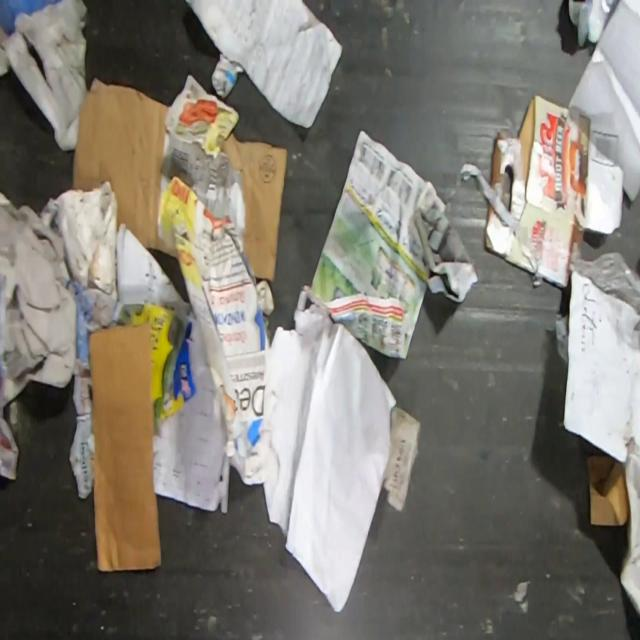cardboard: (69, 77, 288, 285), (490, 92, 626, 294), (86, 317, 162, 573), (484, 201, 535, 276), (587, 442, 630, 525)
soft_plastic: (568, 250, 640, 317), (554, 314, 569, 368)
